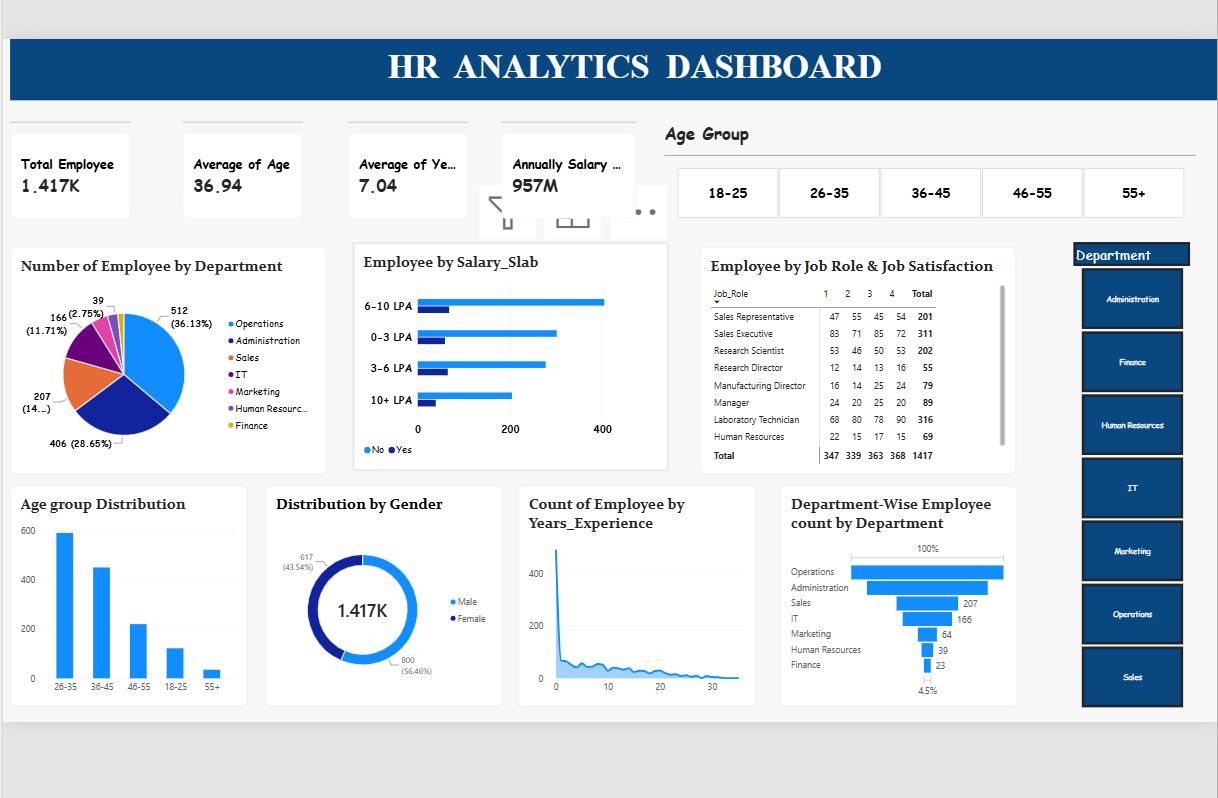

This screenshot's page, from the dashboard's own definition file:
{"tool":"powerbi","page":{"name":"Page 1","canvas":[1920,1080],"ordinal":0},"visuals":[{"type":"textbox","box":[11.2,0,1908.7,97.1],"z":0},{"type":"cardVisual","fields":{"Data":["CountNonNull(HR_Analytics_Dashboard_Dataset.Employee_ID)"]},"box":[11.2,130.7,190.5,153.1],"z":1000},{"type":"cardVisual","fields":{"Data":["Avg(HR_Analytics_Dashboard_Dataset.Age)"]},"box":[284.5,132.2,190,153],"z":2000},{"type":"cardVisual","fields":{"Data":["Avg(HR_Analytics_Dashboard_Dataset.Years_Experience)"]},"box":[545.3,130.7,190,153],"z":3000},{"type":"pieChart","fields":{"Category":["HR_Analytics_Dashboard_Dataset.Department"],"Y":["CountNonNull(HR_Analytics_Dashboard_Dataset.Employee_ID)"]},"box":[11.2,328.7,500,360],"z":4000},{"type":"clusteredBarChart","title":"Employee by Salary_Slab","fields":{"Category":["HR_Analytics_Dashboard_Dataset.Salary_Slab"],"Y":["CountNonNull(HR_Analytics_Dashboard_Dataset.Employee_ID)"],"Series":["HR_Analytics_Dashboard_Dataset.Attrition"]},"box":[552.8,321.2,500,360.6],"z":5000},{"type":"pivotTable","title":"Employee by Job Role & Job Satisfaction","fields":{"Rows":["HR_Analytics_Dashboard_Dataset.Job_Role"],"Columns":["HR_Analytics_Dashboard_Dataset.Job_Satisfaction"],"Values":["CountNonNull(HR_Analytics_Dashboard_Dataset.Employee_ID)"]},"box":[1101.9,328.7,500,360],"z":6000},{"type":"slicer","fields":{"Values":["HR_Analytics_Dashboard_Dataset.Department"]},"box":[1682.8,320.5,200.3,737.2],"z":7000},{"type":"clusteredColumnChart","title":"Age group Distribution ","fields":{"Category":["HR_Analytics_Dashboard_Dataset.Age_Group"],"Y":["CountNonNull(HR_Analytics_Dashboard_Dataset.Department)"]},"box":[12,705.2,375,350],"z":8000},{"type":"donutChart","title":"Distribution by Gender","fields":{"Category":["HR_Analytics_Dashboard_Dataset.Gender"],"Y":["CountNonNull(HR_Analytics_Dashboard_Dataset.Employee_ID)"]},"box":[414.6,705.9,375,350],"z":9000},{"type":"areaChart","title":"Count of Employee by Years_Experience","fields":{"Category":["HR_Analytics_Dashboard_Dataset.Years_Experience"],"Y":["CountNonNull(HR_Analytics_Dashboard_Dataset.Employee_ID)"]},"box":[814.3,705.9,375,350],"z":10000},{"type":"funnel","fields":{"Category":["HR_Analytics_Dashboard_Dataset.Department"],"Y":["CountNonNull(HR_Analytics_Dashboard_Dataset.Employee_ID)"]},"box":[1228.9,705.9,375,350],"z":11000},{"type":"cardVisual","fields":{"Data":["Sum(HR_Analytics_Dashboard_Dataset.Annual_Salary_INR)"]},"box":[788.1,130.7,212.9,153.1],"z":12000},{"type":"slicer","title":"Age Group","fields":{"Values":["HR_Analytics_Dashboard_Dataset.Age_Group"]},"box":[1045.9,130.7,840.4,153.1],"z":13000}]}

Visuals, with their boxes on the page's 1920x1080 design canvas (x1, y1, x2, y2). These are canvas units, not pixel positions in the 1218x798 screenshot, which may show the page scaled, cropped or inside an application window:
textbox: <bbox>11, 0, 1920, 97</bbox>
cardVisual - CountNonNull(HR_Analytics_Dashboard_Dataset.Employee_ID): <bbox>11, 131, 202, 284</bbox>
cardVisual - Avg(HR_Analytics_Dashboard_Dataset.Age): <bbox>284, 132, 474, 285</bbox>
cardVisual - Avg(HR_Analytics_Dashboard_Dataset.Years_Experience): <bbox>545, 131, 735, 284</bbox>
pieChart - HR_Analytics_Dashboard_Dataset.Department x CountNonNull(HR_Analytics_Dashboard_Dataset.Employee_ID): <bbox>11, 329, 511, 689</bbox>
"Employee by Salary_Slab" clusteredBarChart: <bbox>553, 321, 1053, 682</bbox>
"Employee by Job Role & Job Satisfaction" pivotTable: <bbox>1102, 329, 1602, 689</bbox>
slicer - HR_Analytics_Dashboard_Dataset.Department: <bbox>1683, 320, 1883, 1058</bbox>
"Age group Distribution " clusteredColumnChart: <bbox>12, 705, 387, 1055</bbox>
"Distribution by Gender" donutChart: <bbox>415, 706, 790, 1056</bbox>
"Count of Employee by Years_Experience" areaChart: <bbox>814, 706, 1189, 1056</bbox>
funnel - HR_Analytics_Dashboard_Dataset.Department x CountNonNull(HR_Analytics_Dashboard_Dataset.Employee_ID): <bbox>1229, 706, 1604, 1056</bbox>
cardVisual - Sum(HR_Analytics_Dashboard_Dataset.Annual_Salary_INR): <bbox>788, 131, 1001, 284</bbox>
"Age Group" slicer: <bbox>1046, 131, 1886, 284</bbox>
